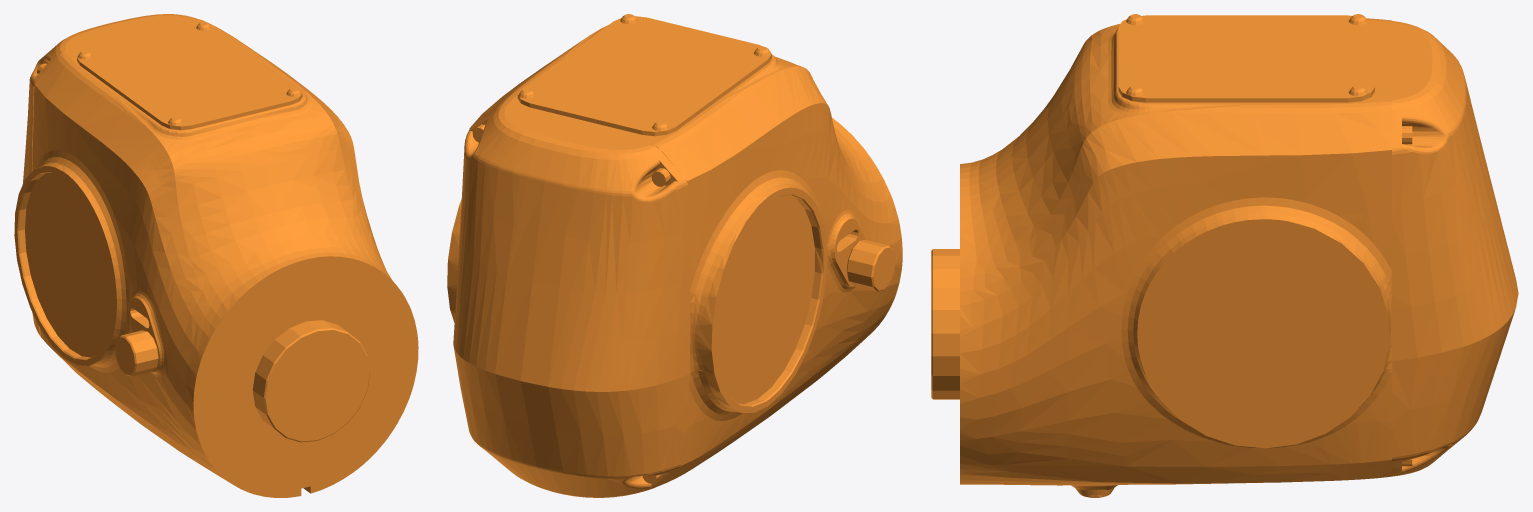
The model's file is xarm7_with_gripper_LR4_R560_link4_visual_vis_1.dae.
3 renders of one model, left to right at view 1: azimuth 30°, elevation 25°; view 2: azimuth 150°, elevation 25°; view 3: azimuth 270°, elevation 25°, orthographic. The views are drawn at different scales.
Visible parts, largest first — view 1: Node_000001B89B5E4920; view 2: Node_000001B89B5E4920; view 3: Node_000001B89B5E4920.
Boxes of the visible parts, <box> form: Node_000001B89B5E4920: <box>14,14,418,497</box>; Node_000001B89B5E4920: <box>447,14,902,497</box>; Node_000001B89B5E4920: <box>931,14,1518,497</box>.
Bounding box in the file's own units: 0.108 × 0.1367 × 0.174.
